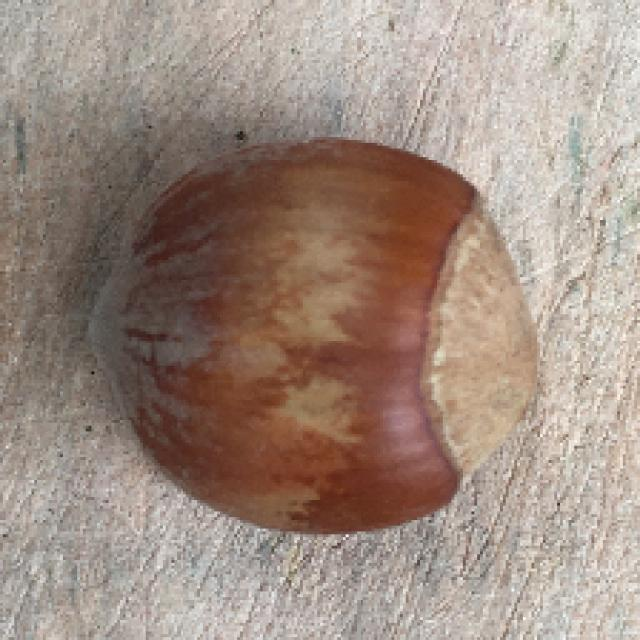qualityHazelnut: (77, 141, 551, 543)
